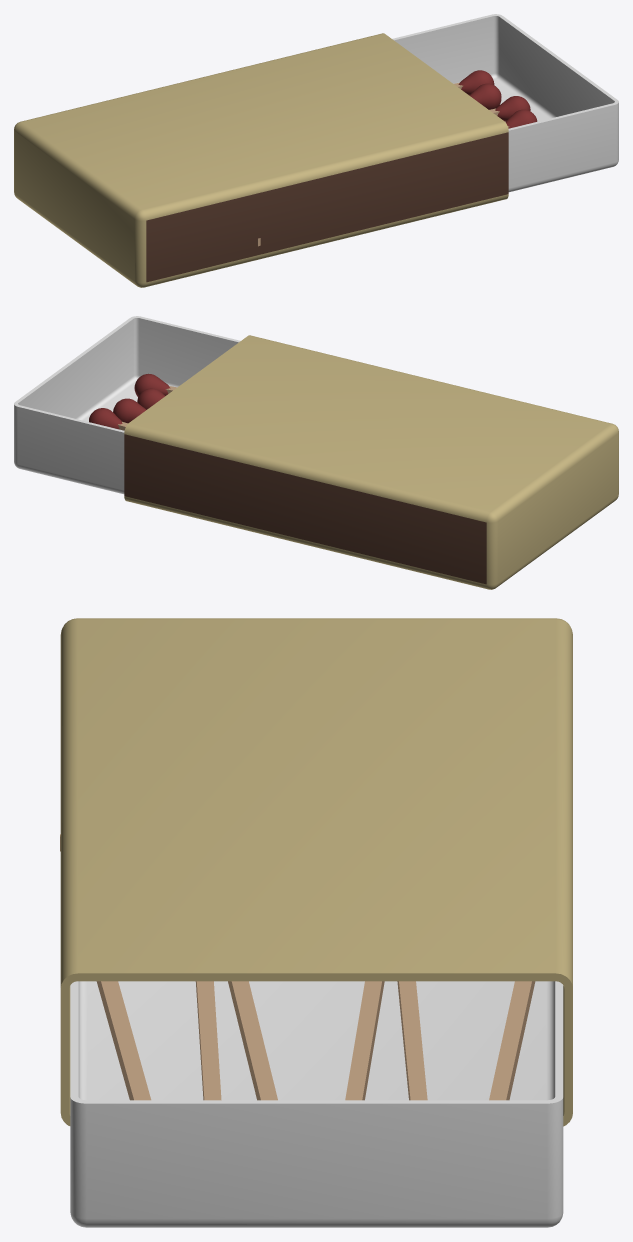
File: Matches.fbx
3 renders of one model, top to bottom at view 1: azimuth 30°, elevation 25°; view 2: azimuth 150°, elevation 25°; view 3: azimuth 270°, elevation 25°, orthographic. The views are drawn at different scales.
Parts seen in each view (by area): view 1: Box, Holder, MatchTip.002, MatchTip.004, MatchTip.003, MatchTip.005; view 2: Box, Holder, MatchTip.005, MatchTip.007, MatchTip.004, MatchTip.006; view 3: Box, Holder, Match.002, Match.004, Match.007, Match.005, Match.006, Match.003.
Boxes of the visible parts, left/top/right/bottom form: Box: left=14, top=33, right=508, bottom=287; Holder: left=392, top=14, right=618, bottom=192; MatchTip.002: left=469, top=83, right=501, bottom=109; MatchTip.004: left=495, top=96, right=530, bottom=121; MatchTip.003: left=458, top=70, right=494, bottom=95; MatchTip.005: left=505, top=109, right=537, bottom=128; Box: left=124, top=335, right=618, bottom=589; Holder: left=14, top=316, right=240, bottom=494; MatchTip.005: left=113, top=398, right=146, bottom=423; MatchTip.007: left=134, top=373, right=170, bottom=397; MatchTip.004: left=89, top=408, right=122, bottom=429; MatchTip.006: left=137, top=388, right=165, bottom=409; Box: left=60, top=618, right=572, bottom=1126; Holder: left=70, top=981, right=563, bottom=1227; Match.002: left=60, top=834, right=151, bottom=1100; Match.004: left=228, top=981, right=277, bottom=1100; Match.007: left=489, top=981, right=535, bottom=1100; Match.005: left=345, top=981, right=384, bottom=1100; Match.006: left=397, top=981, right=427, bottom=1100; Match.003: left=195, top=981, right=221, bottom=1100.
Size of the model in its own units: 30.04 by 65.64 by 10.
